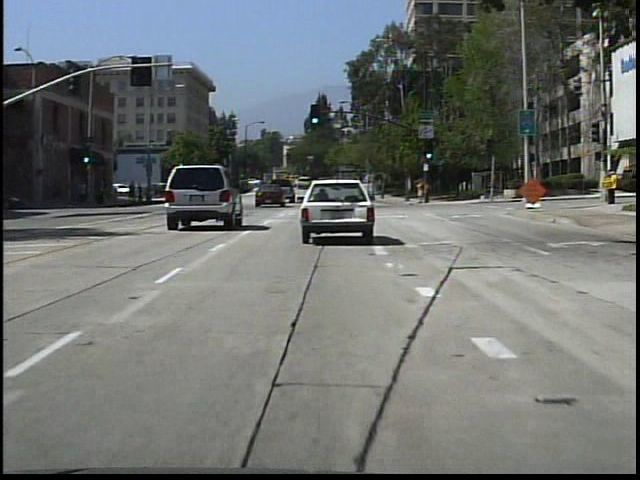person: (413, 174, 429, 209)
